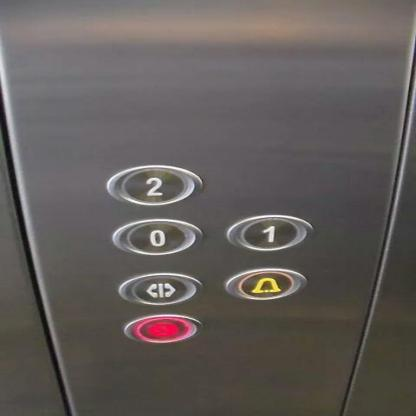0: (109, 219, 204, 255)
1: (226, 214, 315, 250)
2: (103, 164, 204, 206)
alarm: (223, 268, 308, 300)
fan: (122, 313, 204, 343)
open: (114, 272, 204, 305)
